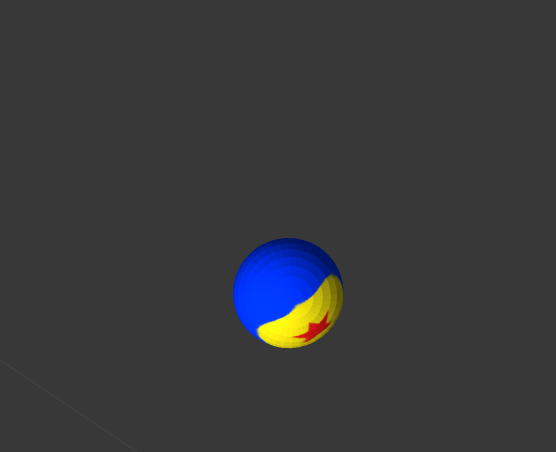toy_story_ball: (231, 238, 344, 350)
